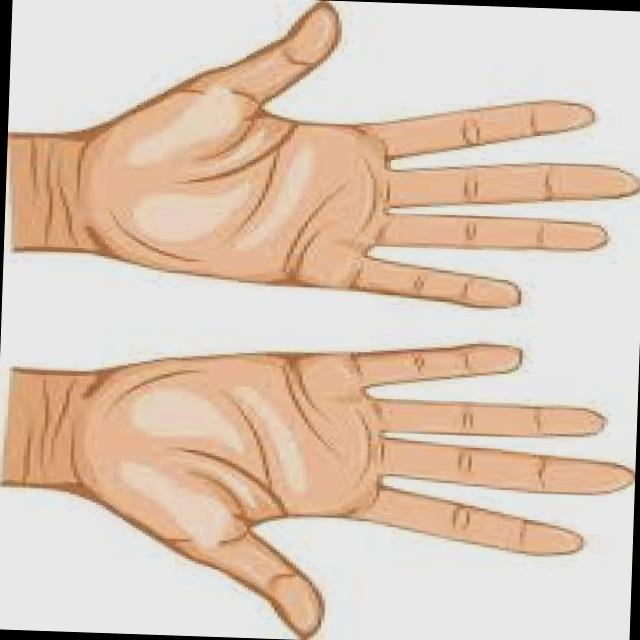Hand: (65, 0, 640, 318), (54, 328, 639, 640)
